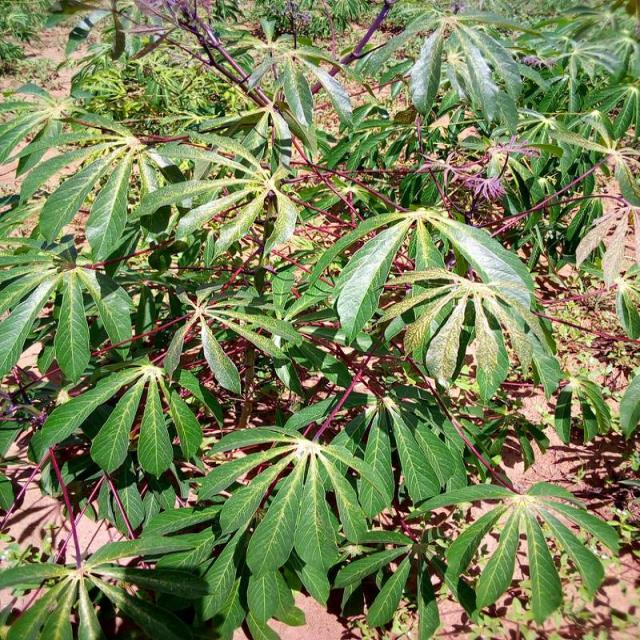cassava leaf: (1, 1, 635, 638), (332, 212, 414, 346)
